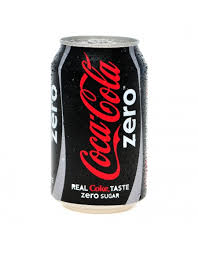can: (48, 32, 151, 219)
